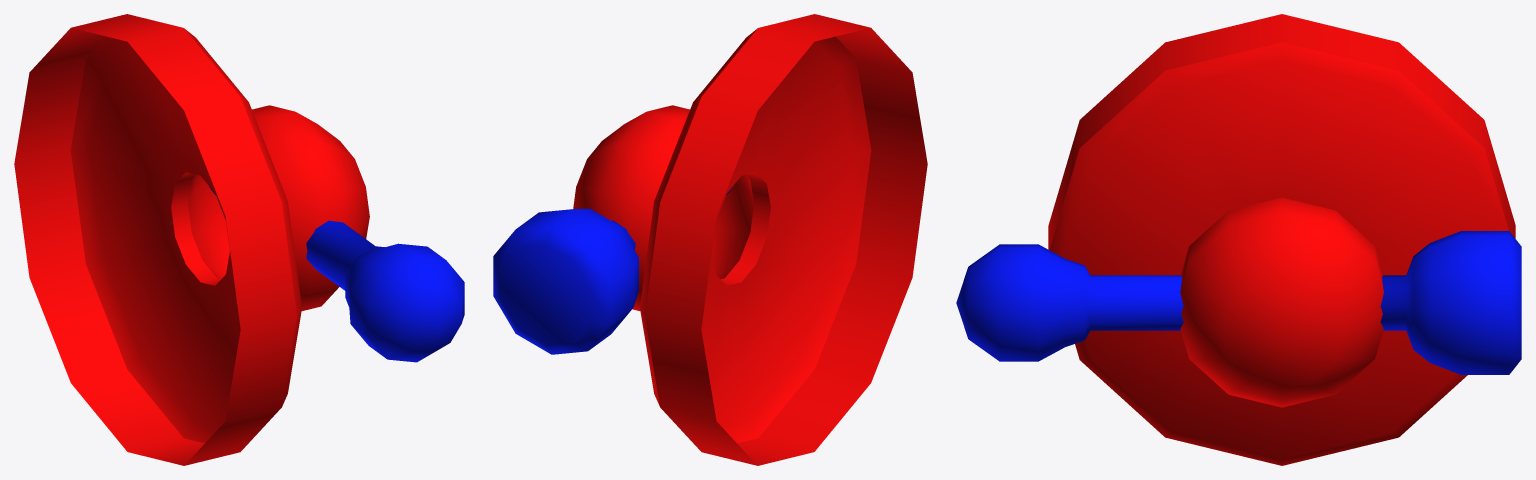
3 renders of one model, left to right at view 1: azimuth 30°, elevation 25°; view 2: azimuth 150°, elevation 25°; view 3: azimuth 270°, elevation 25°, orthographic. The views are drawn at different scales.
Visible parts, largest first — view 1: Object001; view 2: Object001; view 3: Object001.
Boxes of the visible parts, box(x1,y1,x2,y2) form: Object001: box(14, 14, 464, 465); Object001: box(493, 14, 927, 465); Object001: box(956, 14, 1521, 465).
Bounding box in the file's own units: 14.35 × 25.39 × 30.72.
